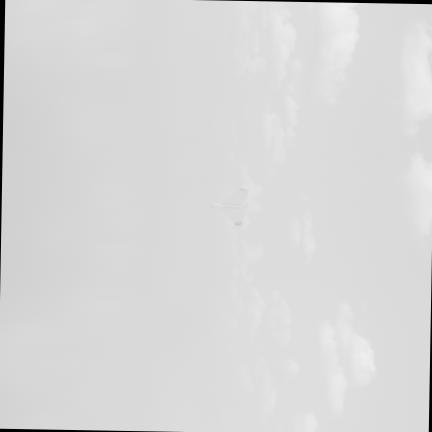Shahed: (211, 186, 248, 225)
